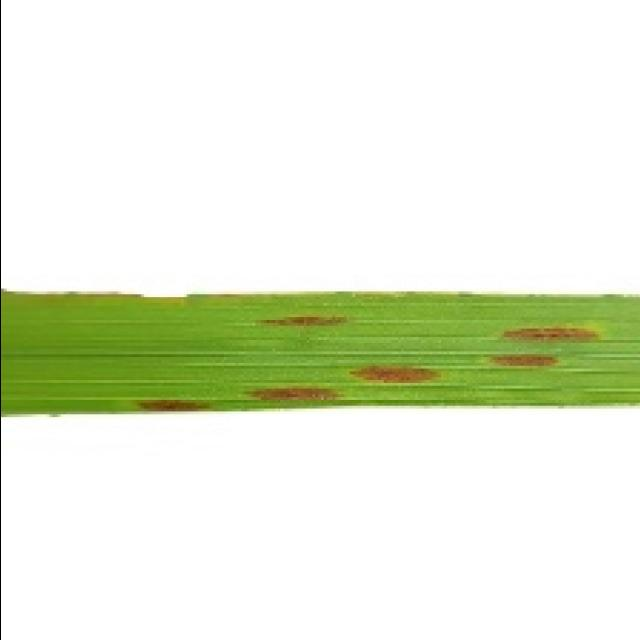Unhealthy: (348, 364, 441, 383), (501, 327, 597, 342), (244, 387, 337, 402), (256, 315, 348, 327), (489, 354, 558, 367), (135, 401, 208, 412)
